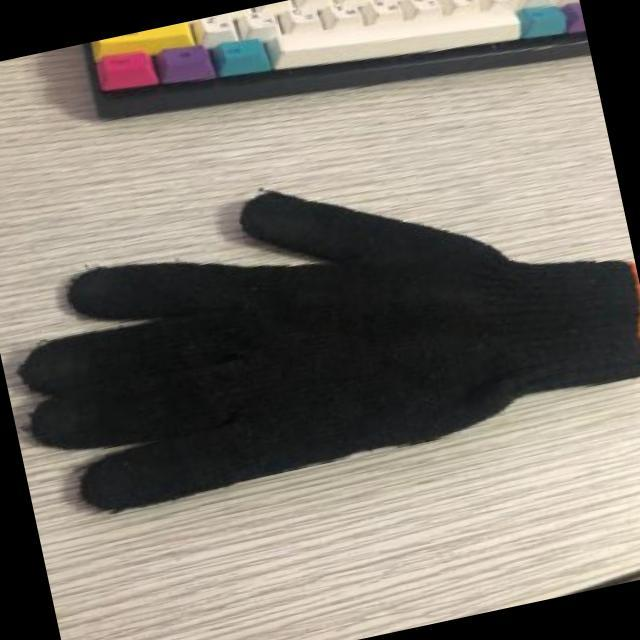glove: (22, 186, 632, 509)
